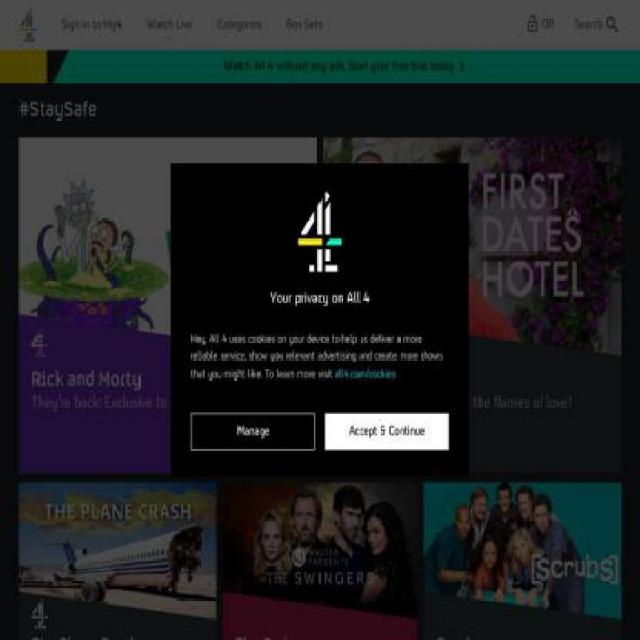button: (0, 50, 640, 84), (191, 413, 315, 450), (325, 413, 449, 450), (54, 0, 129, 51), (566, 0, 628, 51), (140, 0, 200, 51), (211, 0, 269, 51), (278, 0, 331, 51), (518, 0, 562, 51), (12, 0, 43, 51), (332, 364, 398, 384)
